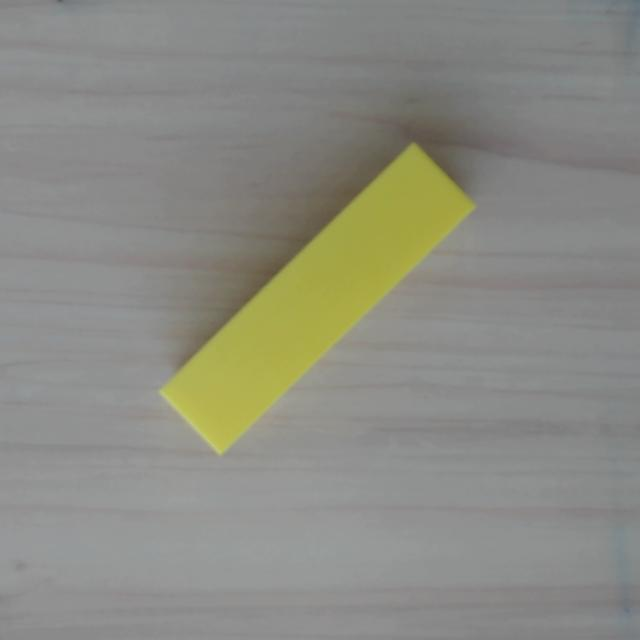Balok-Kuning-1002525: (156, 141, 477, 456)
